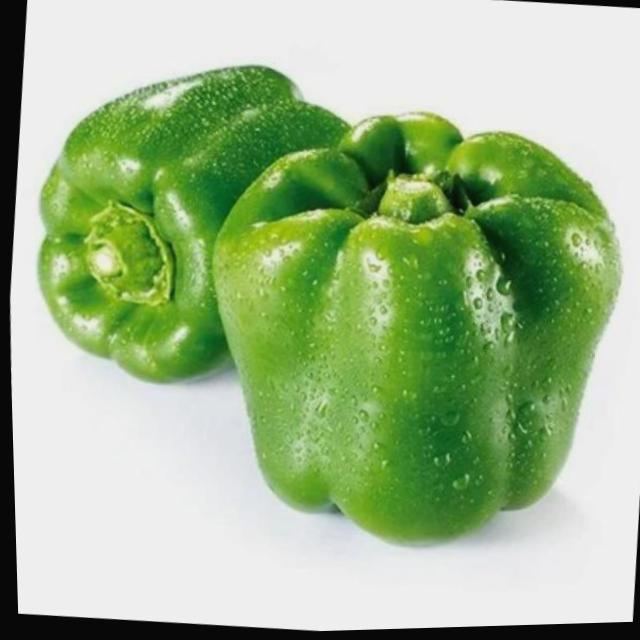Capsicum: (184, 89, 638, 566), (20, 47, 363, 405)
